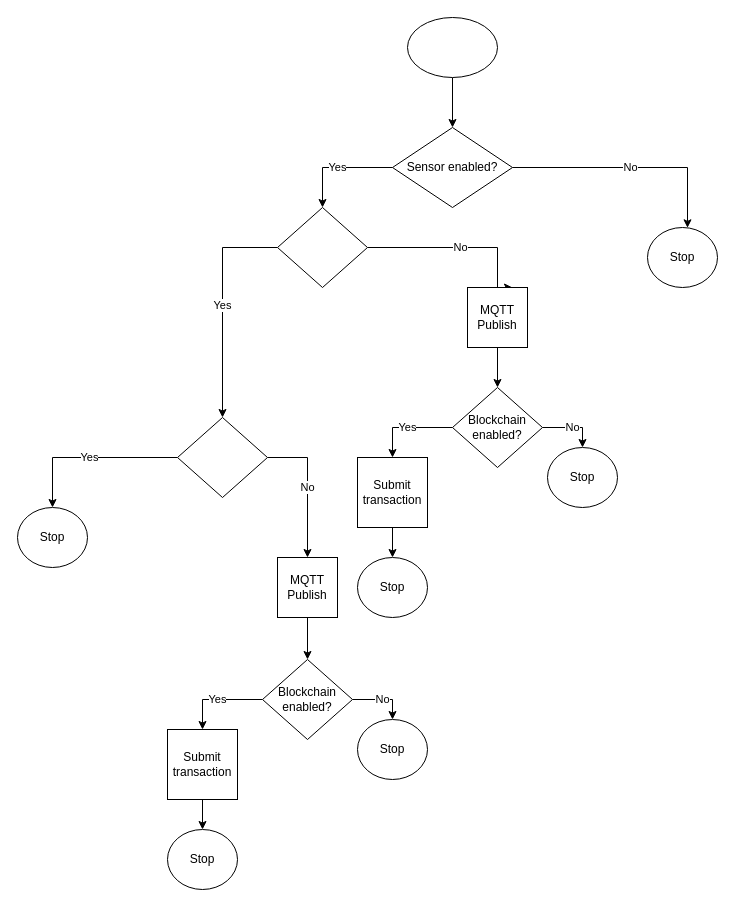
This 735x907 diagram has some shape labels left out. Here are the shapes that lost their labels. From the top down, the centre of each, then its label:
At [452,47]: "Start".
At [322,247]: "ML enabled?".
At [222,457]: "Anomalous data?".
